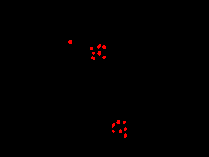Target: (97, 44, 101, 49), (97, 51, 101, 56), (68, 40, 72, 44), (102, 45, 106, 49), (91, 56, 95, 60), (116, 120, 120, 124), (112, 123, 115, 128), (124, 133, 127, 138), (102, 56, 106, 59), (124, 127, 127, 131), (119, 129, 122, 133), (90, 47, 93, 50), (92, 52, 95, 55), (123, 121, 126, 124), (112, 130, 115, 133)
